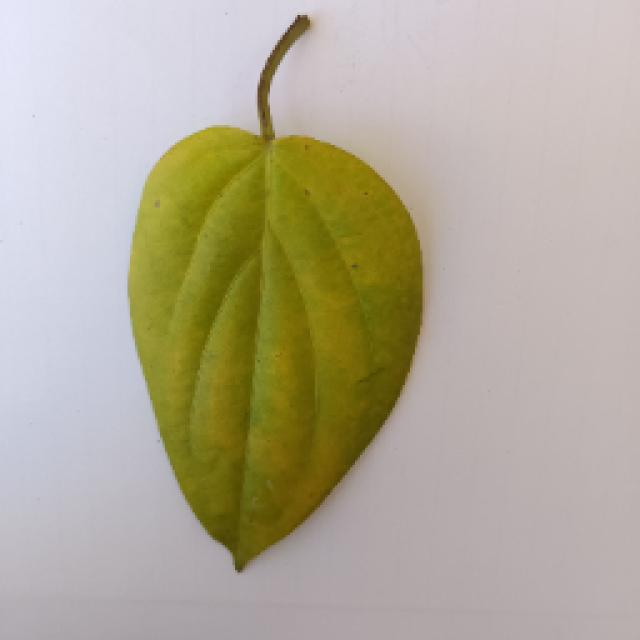slow-decline: (125, 45, 420, 573)
